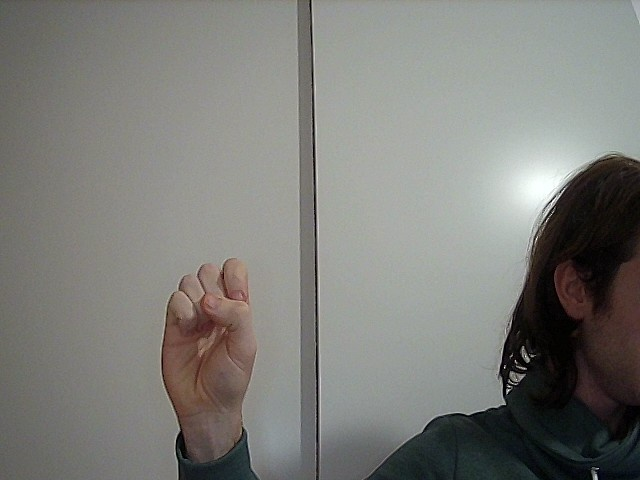s: (150, 244, 280, 416)
